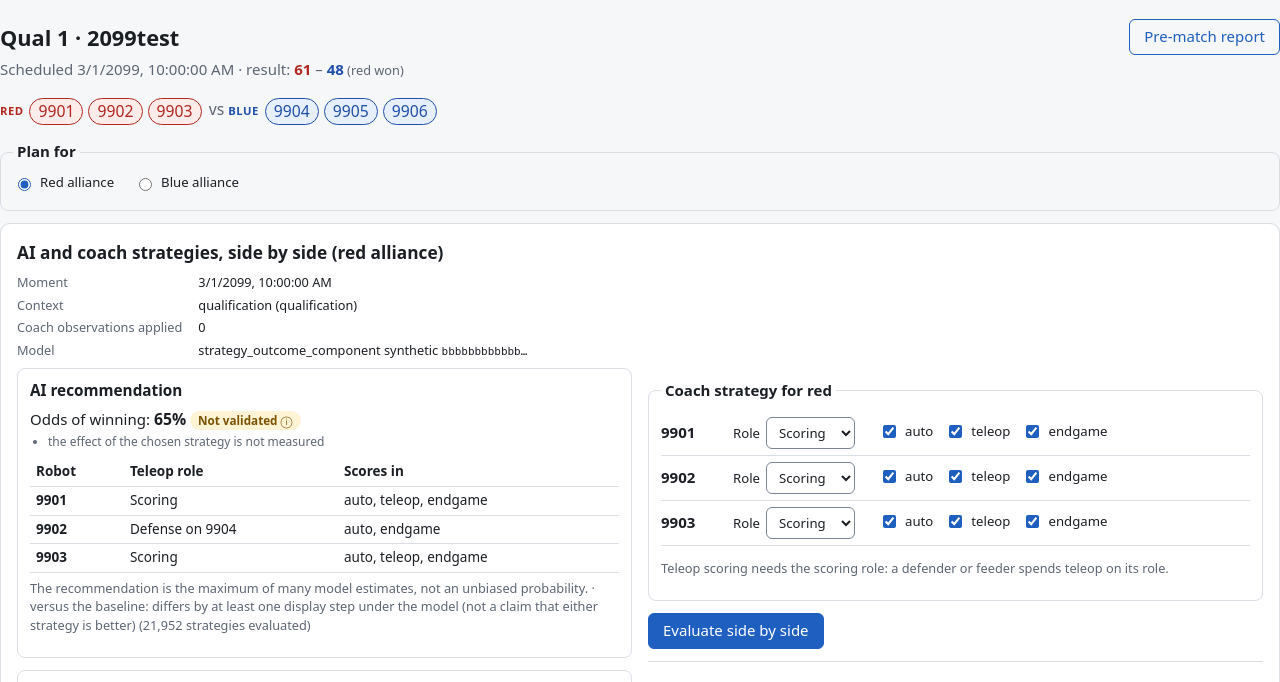
MatchPage (P8-M4) › evaluates the coach strategy against the AI one through the compare route, rendered alike
Expected: the heading "AI recommendation" is shown, [30, 380, 182, 400]
Select "Feeding" in the 3rd dropdown labelled "Role": coordinates (810, 523) [766, 507, 855, 539]
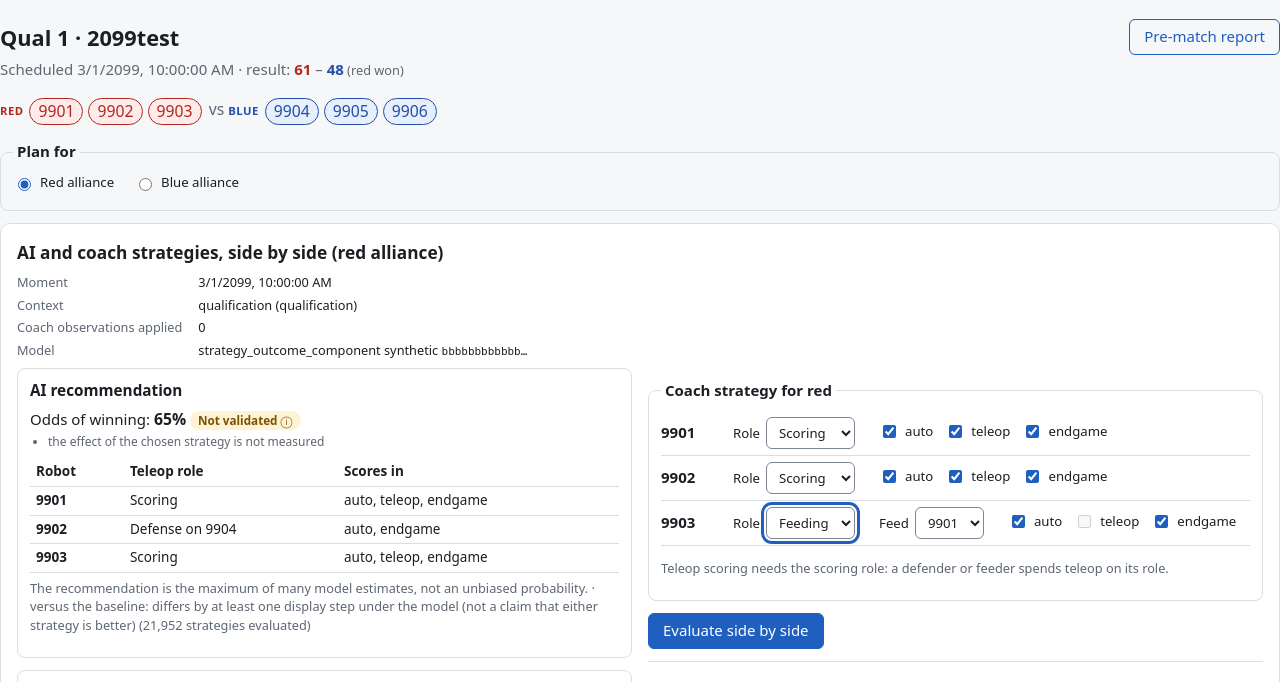
Click the button "Evaluate side by side": coordinates (736, 631) [648, 613, 824, 649]
(page scrolled)
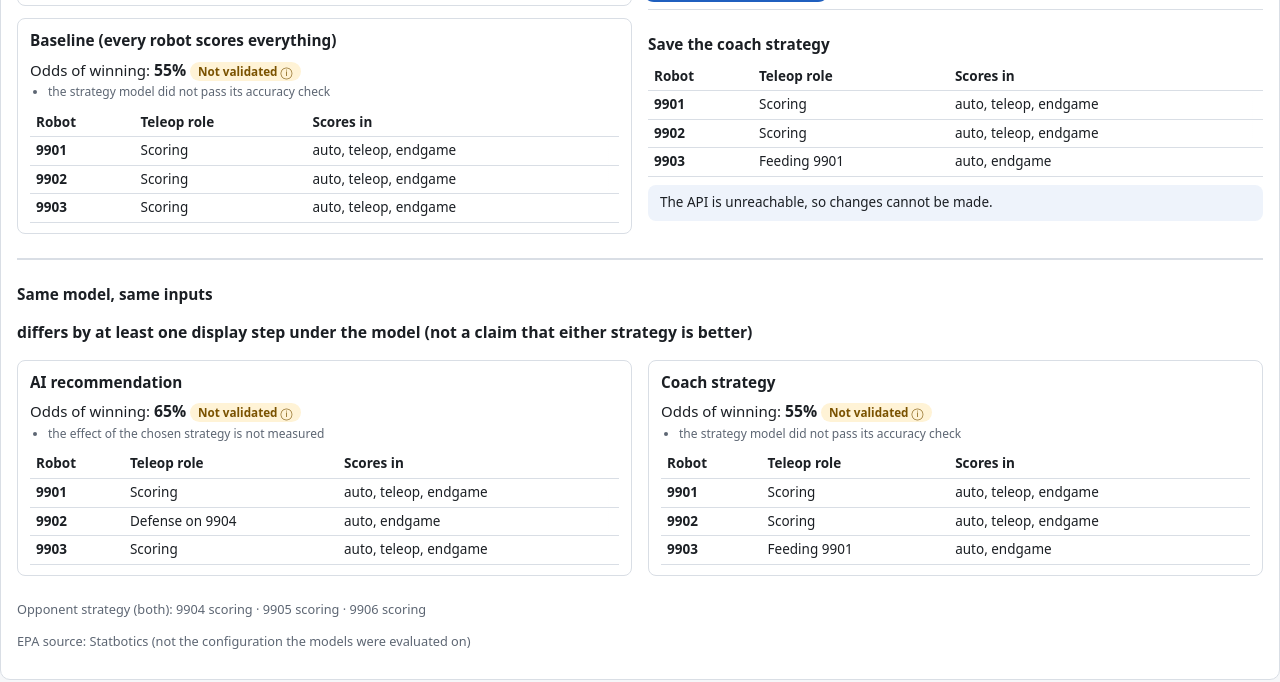
Now the text "not a claim that either strategy is better" is shown, box [17, 321, 752, 343]
Now the text "Odds of winning:" is shown 2 times, box [30, 400, 619, 442]; [661, 400, 1250, 442]
